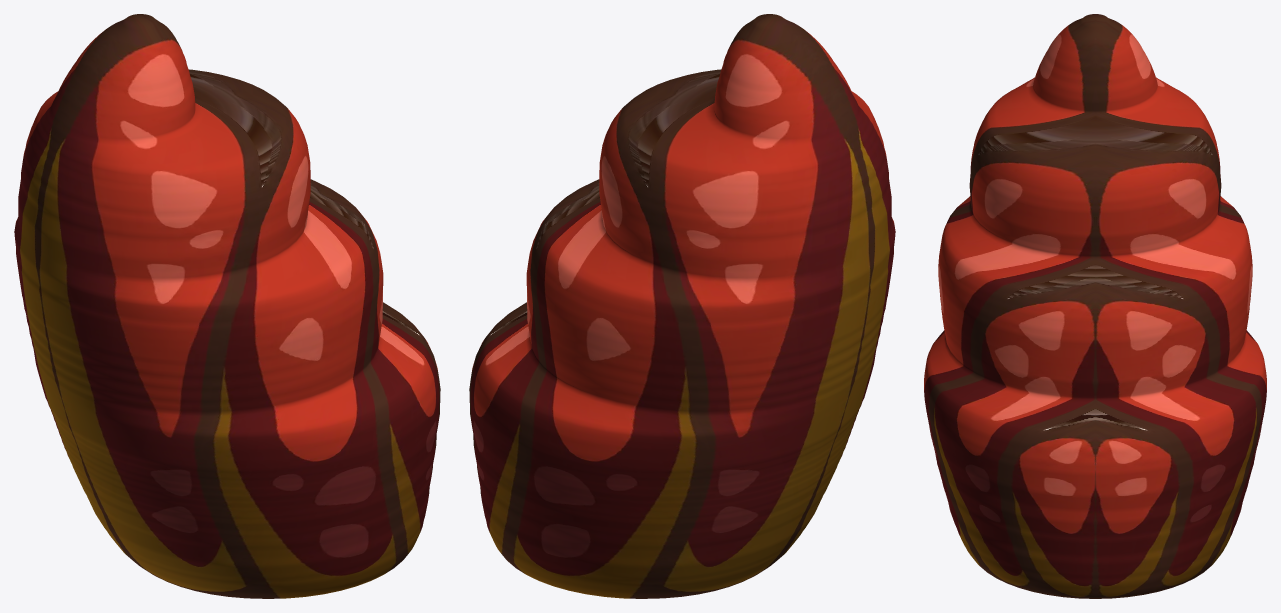
The model's file is red_coral.glb.
The picture shows the model from 3 angles, left to right: view 1: azimuth 30°, elevation 25°; view 2: azimuth 150°, elevation 25°; view 3: azimuth 270°, elevation 25°; orthographic projection. The views are drawn at different scales.
Visible parts, largest first — view 1: red_coral; view 2: red_coral; view 3: red_coral.
Boxes of the visible parts, x1=… form: red_coral: x1=14, y1=14, x2=440, y2=598; red_coral: x1=469, y1=14, x2=895, y2=598; red_coral: x1=924, y1=14, x2=1266, y2=598.
Size of the model in its own units: 1 by 1.46 by 0.9152.
Materials: 1 (1 with a texture image).
